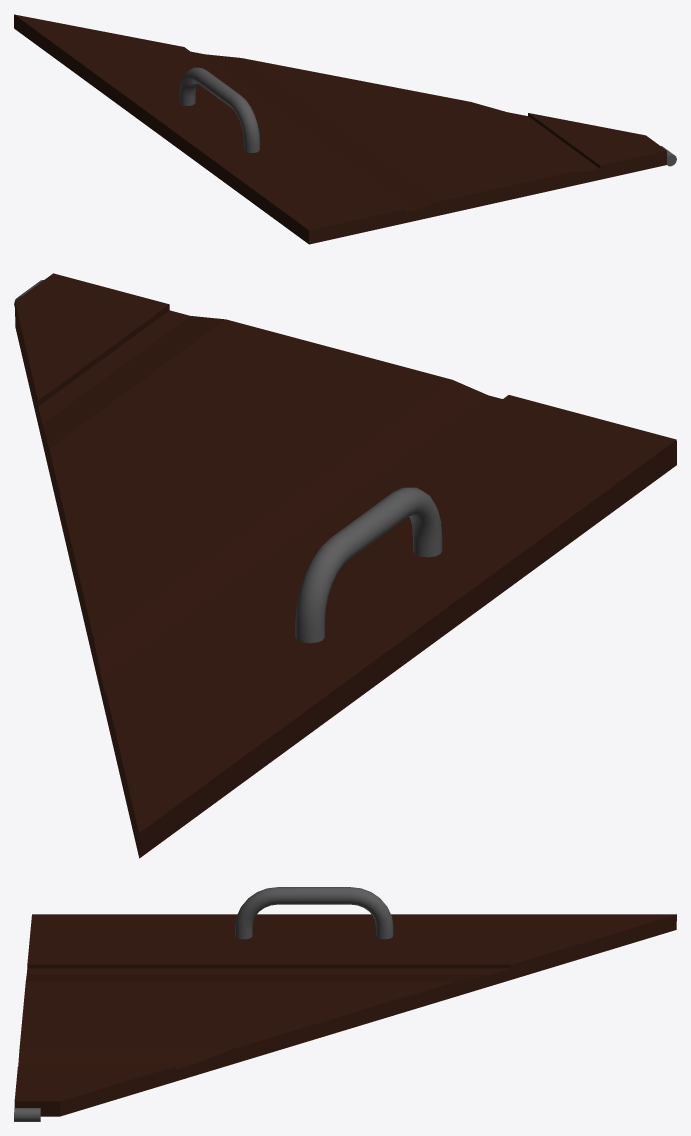
File: Placard_Part_7.fbx
3 renders of one model, top to bottom at view 1: azimuth 30°, elevation 25°; view 2: azimuth 150°, elevation 25°; view 3: azimuth 270°, elevation 25°, orthographic. The views are drawn at different scales.
Parts seen in each view (by area): view 1: Placard_Part_7; view 2: Placard_Part_7; view 3: Placard_Part_7.
Part boxes in pixels (x1,y1,x2,y2): Placard_Part_7: (14, 14, 676, 244); Placard_Part_7: (14, 273, 676, 858); Placard_Part_7: (14, 887, 676, 1121).
Size of the model in its own units: 73.05 by 11.67 by 107.
